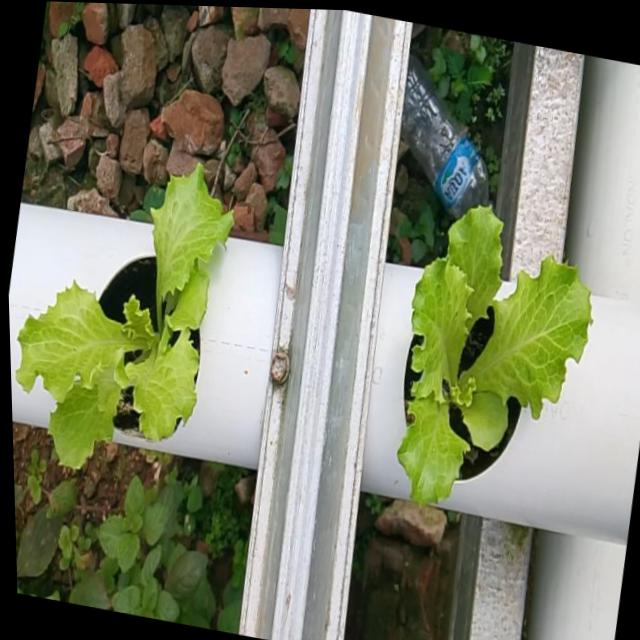Baby: (24, 167, 239, 470), (401, 208, 596, 509)
